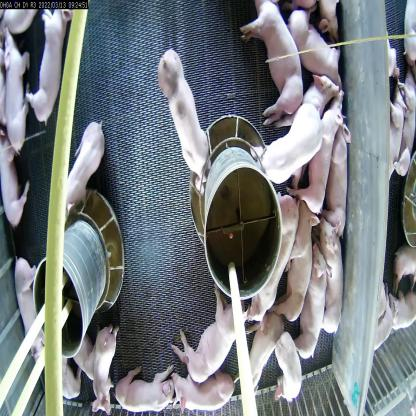Pig: (246, 177, 303, 329), (244, 0, 303, 127), (23, 4, 77, 120), (161, 37, 205, 179), (176, 288, 247, 374), (266, 99, 323, 190), (13, 255, 53, 379), (0, 30, 38, 160), (59, 122, 115, 208), (283, 192, 318, 324), (298, 249, 334, 359), (0, 128, 36, 234), (312, 92, 340, 221), (241, 318, 281, 400), (89, 327, 124, 416), (114, 370, 183, 415), (320, 212, 343, 342), (276, 333, 304, 415)
